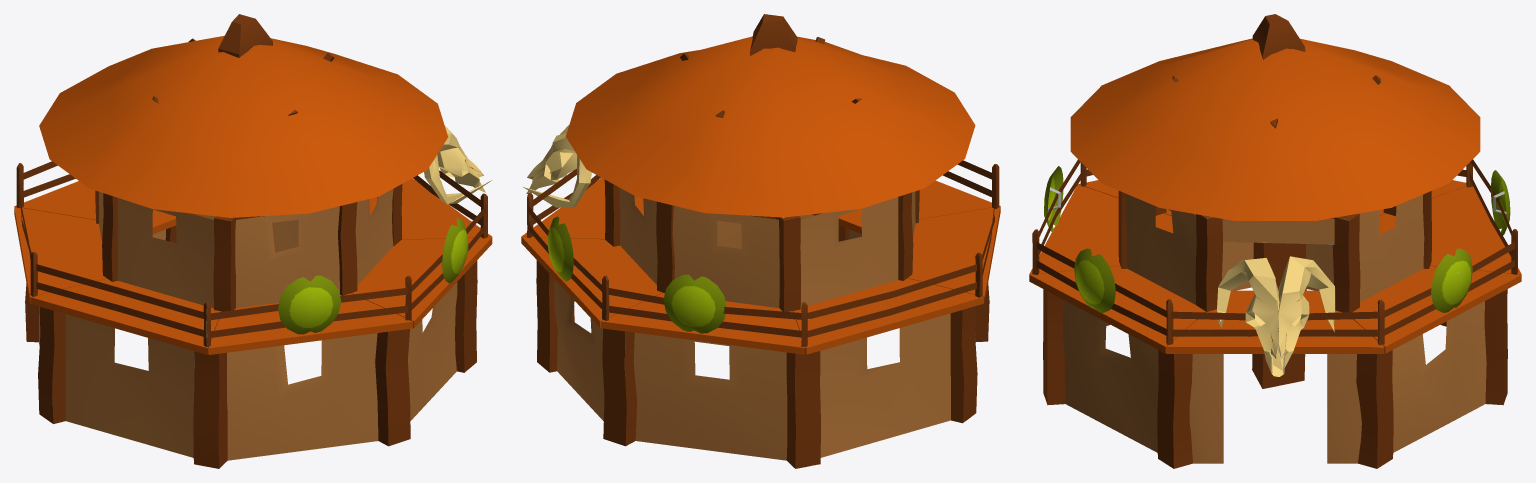
File: Barrack Age 2.fbx
3 renders of one model, left to right at view 1: azimuth 30°, elevation 25°; view 2: azimuth 150°, elevation 25°; view 3: azimuth 270°, elevation 25°, orthographic.
Visible parts, largest first — view 1: Barrack_Age_2; view 2: Barrack_Age_2; view 3: Barrack_Age_2.
Part boxes in pixels (x1,y1,x2,y2): Barrack_Age_2: (14,14,492,468); Barrack_Age_2: (521,14,1000,468); Barrack_Age_2: (1029,14,1521,468).
Size of the model in its own units: 805 by 593 by 740.
